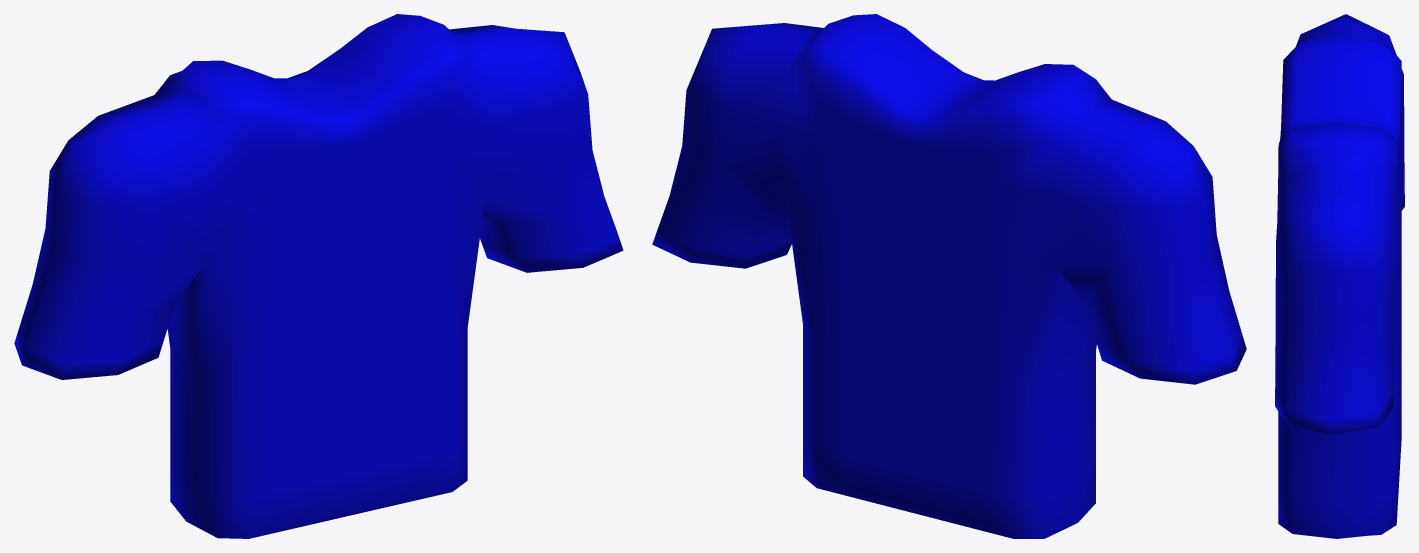
File: armor.fbx
3 renders of one model, left to right at view 1: azimuth 30°, elevation 25°; view 2: azimuth 150°, elevation 25°; view 3: azimuth 270°, elevation 25°, orthographic. The views are drawn at different scales.
Visible parts, largest first — view 1: armor; view 2: armor; view 3: armor.
Boxes of the visible parts, bbox=[...] form: armor: bbox=[14, 14, 623, 538]; armor: bbox=[652, 14, 1246, 538]; armor: bbox=[1275, 14, 1404, 538].
Bounding box in the file's own units: 262 × 191 × 56.04.
